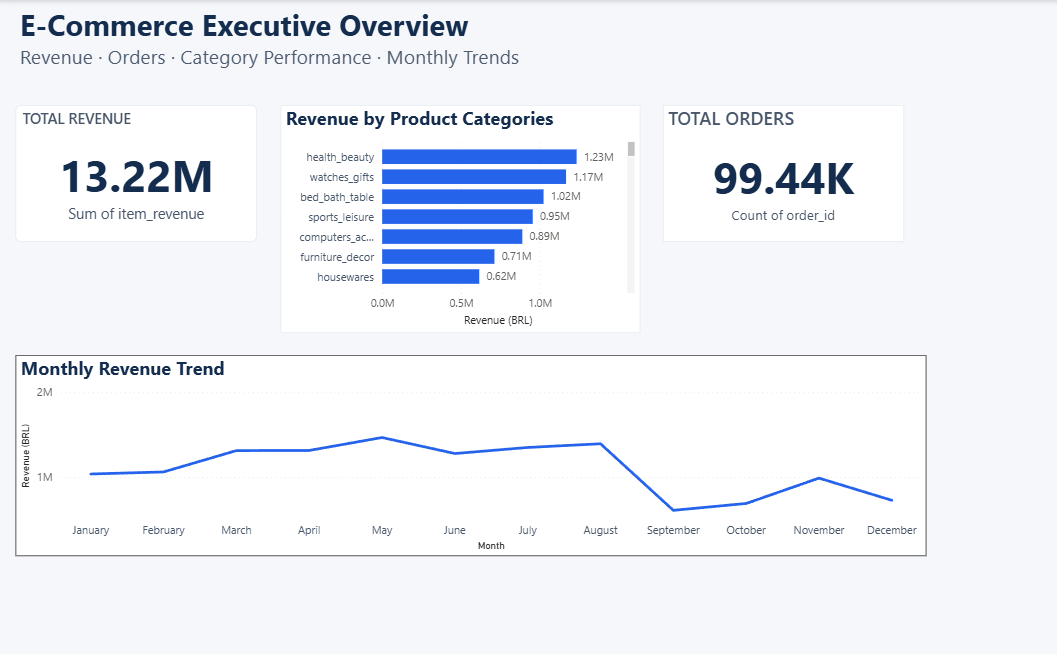

What the dashboard file says about the page in this screenshot:
{"tool":"powerbi","page":{"name":"Executive Overview","canvas":[1280,720],"ordinal":0},"visuals":[{"type":"card","title":"TOTAL REVENUE","fields":{"Values":["Sum(gold vw_sales_performance.item_revenue)"]},"box":[19,115,265,150],"z":0},{"type":"card","title":"TOTAL ORDERS","fields":{"Values":["Count(gold vw_delivery_performance.order_id)"]},"box":[730,115,265,150],"z":1000},{"type":"lineChart","title":"Monthly Revenue Trend","fields":{"Category":["gold vw_sales_performance.purchase_date.Variation.Date Hierarchy.Year","gold vw_sales_performance.purchase_date.Variation.Date Hierarchy.Month"],"Y":["Sum(gold vw_sales_performance.item_revenue)"]},"box":[19.2,389.7,1000.3,220.9],"z":2000},{"type":"clusteredBarChart","title":"Revenue by Product Categories","fields":{"Category":["gold vw_sales_performance.product_category_name_english"],"Y":["Sum(gold vw_sales_performance.item_revenue)"]},"box":[310,115,395,250],"z":3000},{"type":"textbox","box":[19.2,0,1261.1,86.4],"z":4000}]}

Visuals, with their boxes on the page's 1280x720 design canvas (x1, y1, x2, y2). These are canvas units, not pixel positions in the 1057x654 screenshot, which may show the page scaled, cropped or inside an application window:
"TOTAL REVENUE" card: [19,115,284,265]
"TOTAL ORDERS" card: [730,115,995,265]
"Monthly Revenue Trend" lineChart: [19,390,1020,611]
"Revenue by Product Categories" clusteredBarChart: [310,115,705,365]
textbox: [19,0,1280,86]
